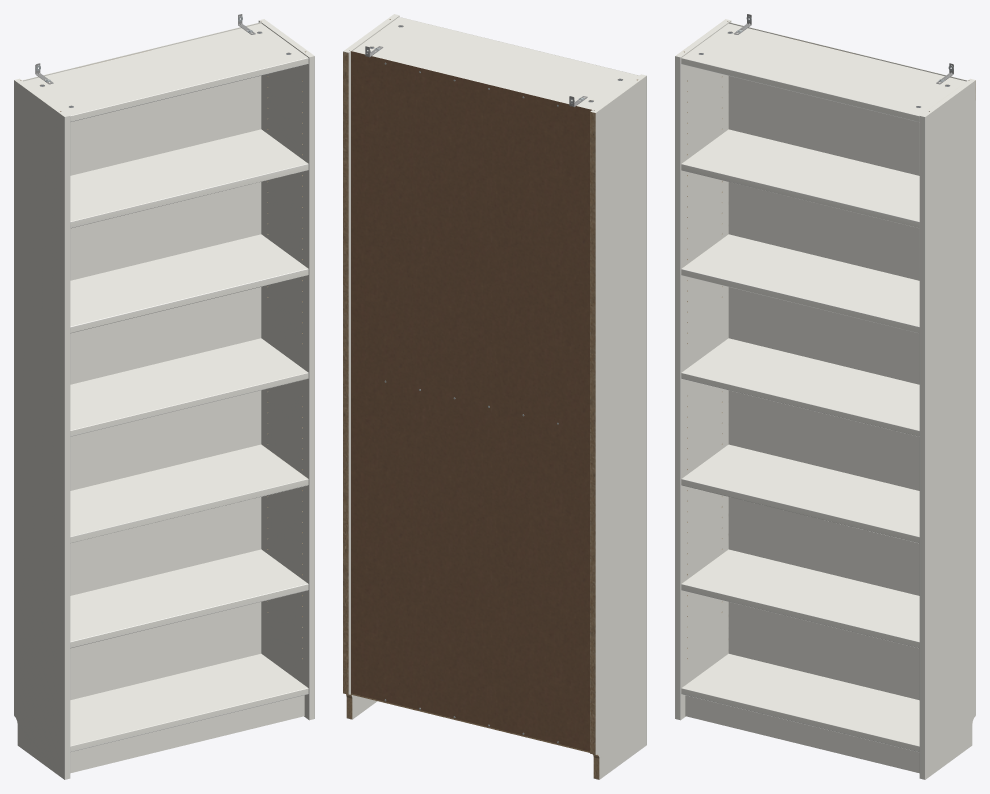
File: ikea-billy-bookcase.glb
3 views of the same model, side by side, from view 1: azimuth 30°, elevation 25°; view 2: azimuth 150°, elevation 25°; view 3: azimuth 330°, elevation 25° (orthographic).
Visible parts, largest first — view 1: Mesh_0; view 2: Mesh_0; view 3: Mesh_0.
Boxes of the visible parts, x1,y1,x2,y2 form: Mesh_0: (14,14,314,779); Mesh_0: (343,14,646,779); Mesh_0: (675,14,975,779).
Bounding box in the file's own units: 0.798 × 2.05 × 0.2797.
Materials: 1 (1 with a texture image).
